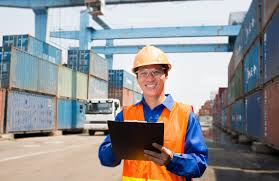Person_wearing_helmet: (128, 41, 174, 79)
